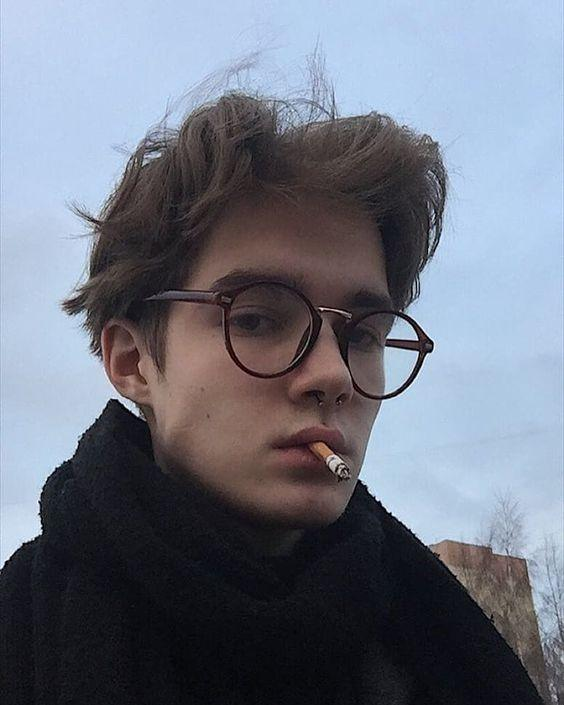cigarette: (310, 440, 352, 481)
